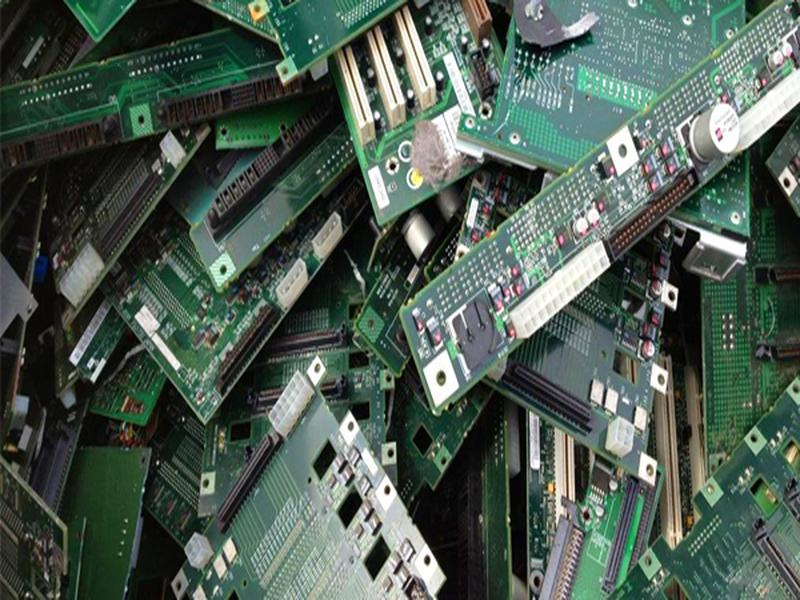circuit_board: (356, 1, 800, 421), (453, 2, 779, 279), (93, 110, 361, 422), (149, 351, 480, 600), (319, 1, 532, 224), (500, 447, 699, 600)
